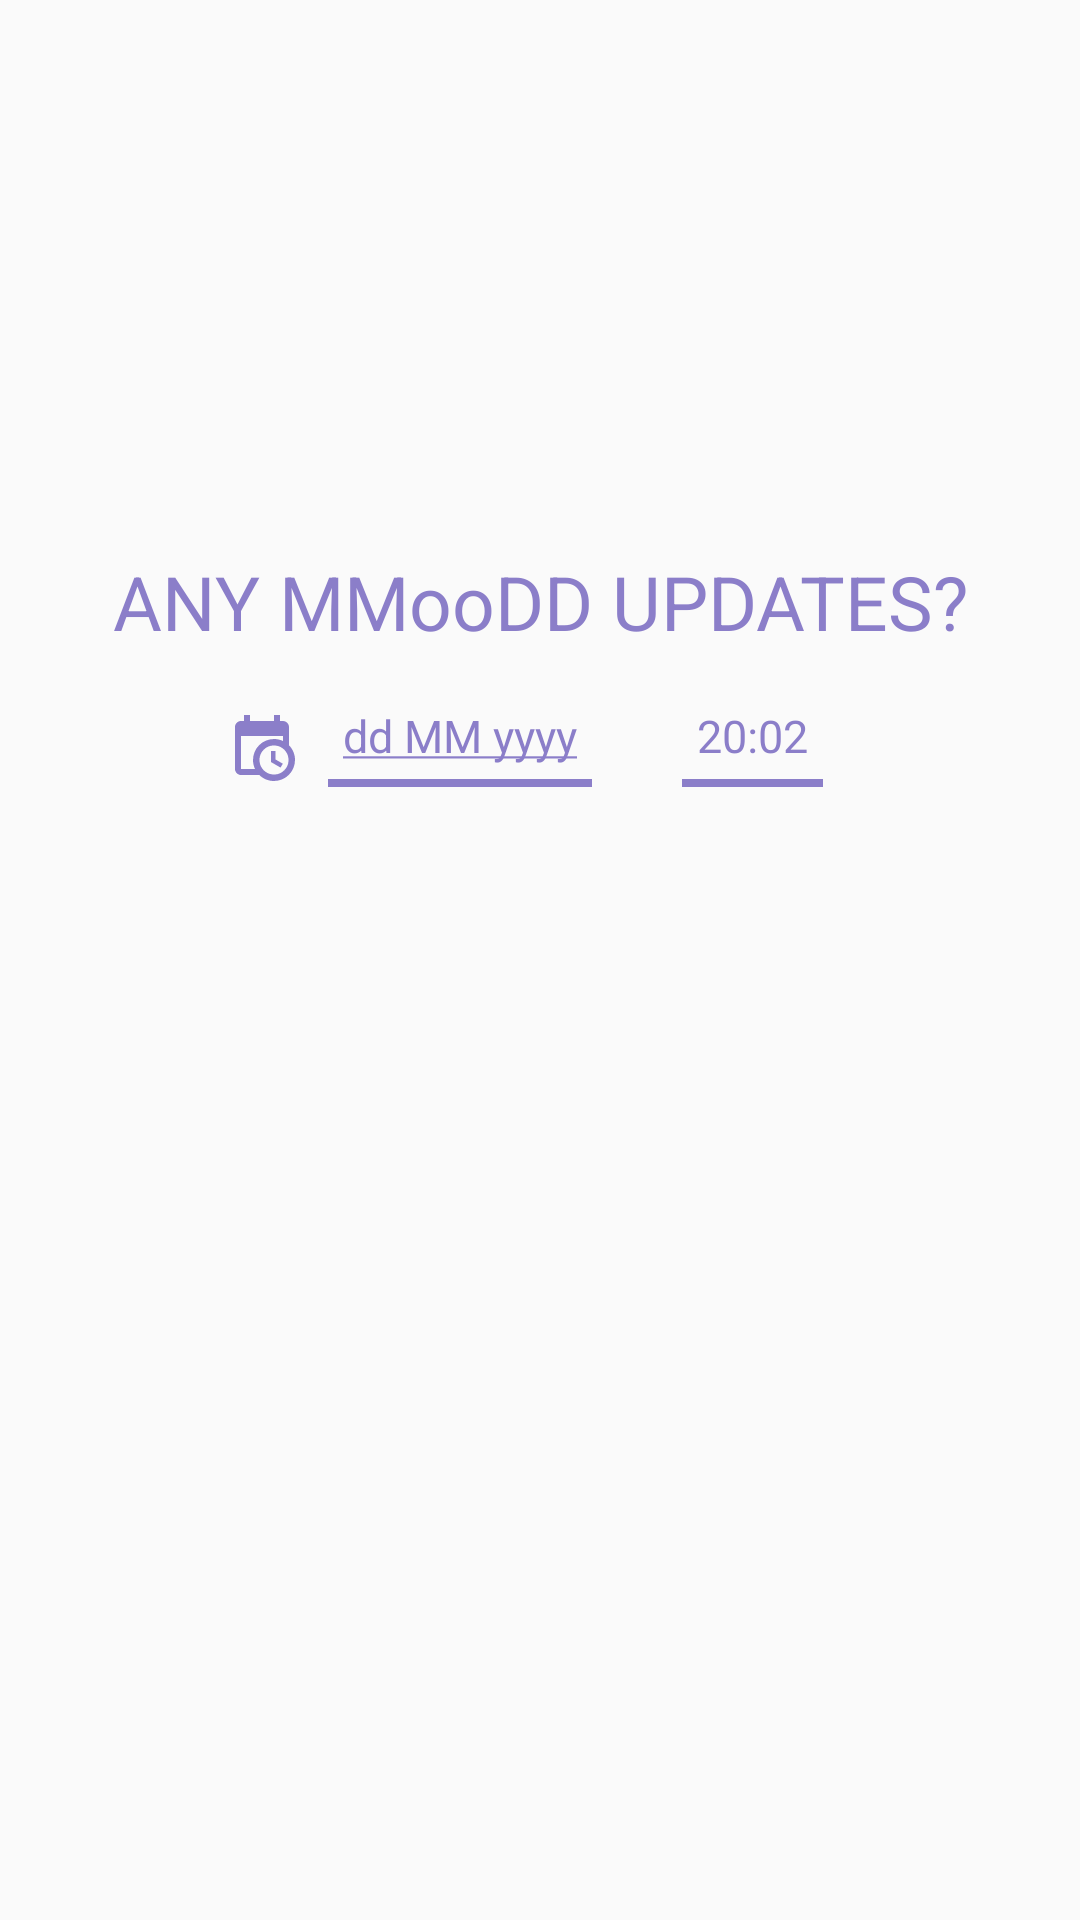

Point at icon controls on the screen. Image size 1080 x 1920, points as point (x, y).
other day: point (265, 748)
